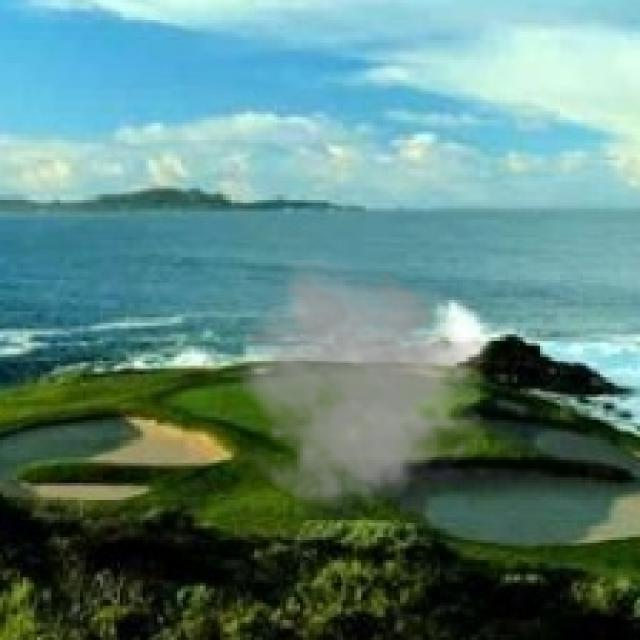smoke: (229, 260, 494, 526)
